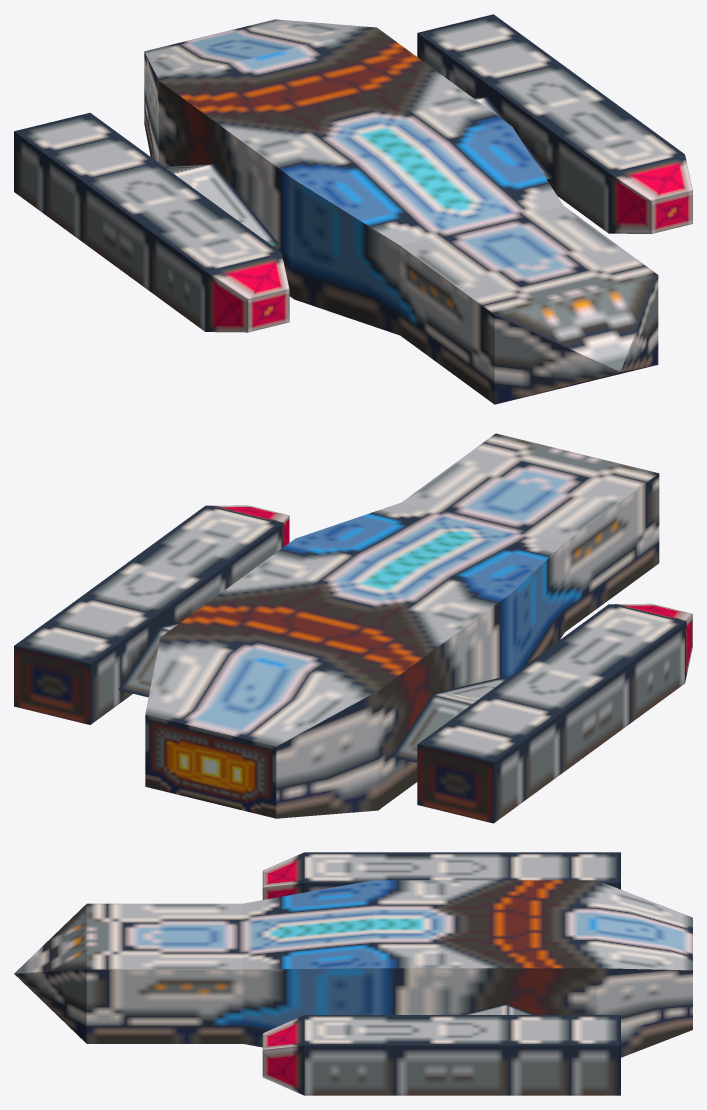
File: shippy1.fbx
3 renders of one model, top to bottom at view 1: azimuth 30°, elevation 25°; view 2: azimuth 150°, elevation 25°; view 3: azimuth 270°, elevation 25°, orthographic. The views are drawn at different scales.
Parts seen in each view (by area): view 1: Shippy; view 2: Shippy; view 3: Shippy.
Part boxes in pixels (x1,y1,x2,y2): Shippy: (14,14,692,404); Shippy: (14,433,692,823); Shippy: (14,852,692,1095).
Bounding box in the file's own units: 586 × 140 × 870.
Materials: 1 (1 with a texture image).
